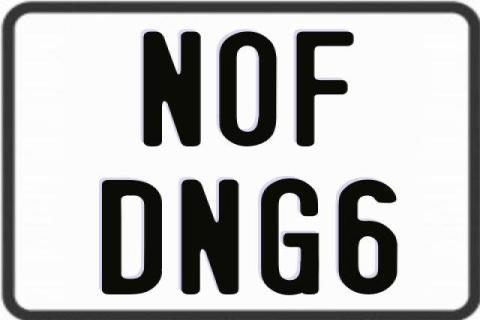0: (216, 30, 277, 148), (338, 177, 400, 292)
D: (101, 180, 164, 297)
F: (296, 29, 358, 144)
G: (258, 179, 317, 297)
N: (179, 179, 241, 295), (142, 29, 201, 145)
